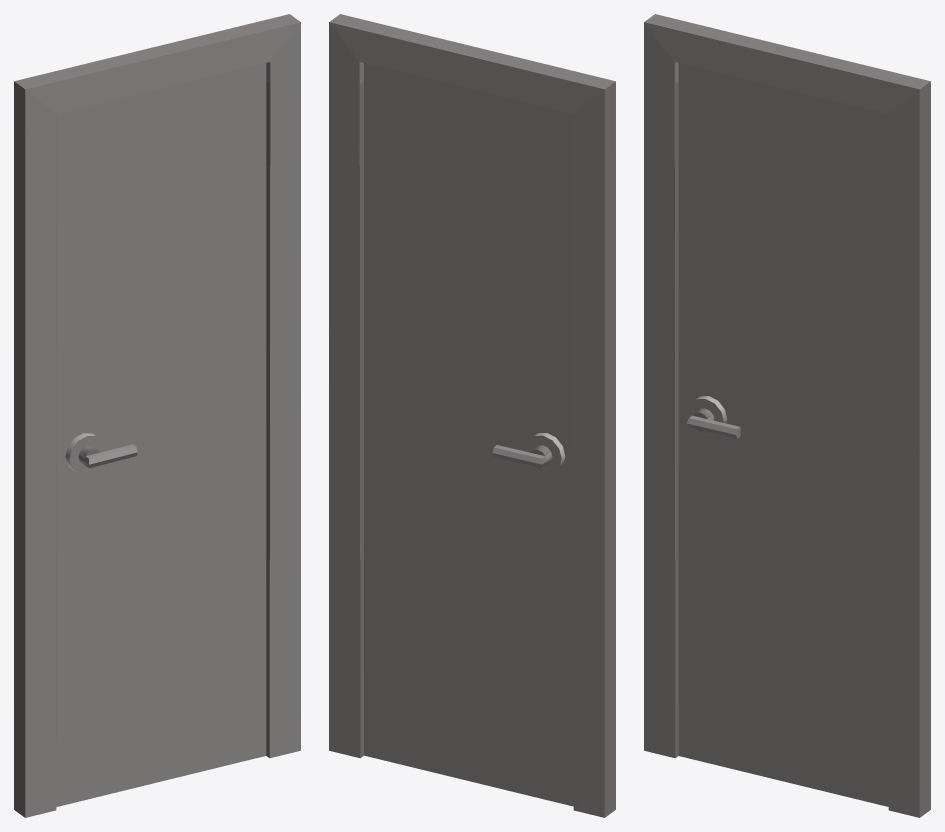
Rendered from door03.fbx.
The picture shows the model from 3 angles, left to right: view 1: azimuth 30°, elevation 25°; view 2: azimuth 150°, elevation 25°; view 3: azimuth 330°, elevation 25°; orthographic projection.
Visible parts, largest first — view 1: Plane2716, Plane2714; view 2: Plane2716, Plane2714; view 3: Plane2716, Plane2714.
Boxes of the visible parts, bbox=[...] form: Plane2716: bbox=[56, 63, 266, 806]; Plane2714: bbox=[14, 14, 300, 817]; Plane2716: bbox=[364, 63, 573, 806]; Plane2714: bbox=[329, 14, 615, 817]; Plane2716: bbox=[678, 63, 888, 806]; Plane2714: bbox=[644, 14, 930, 817].
Bounding box in the file's own units: 201 × 507 × 41.28.
